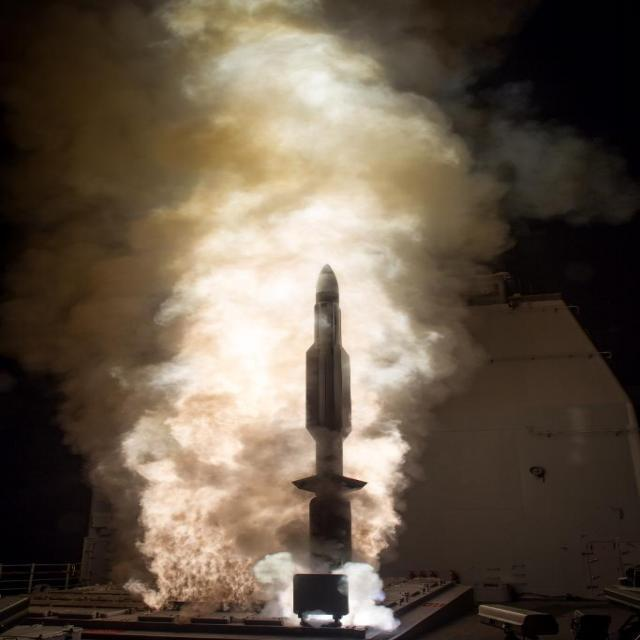missile: (304, 256, 356, 574)
